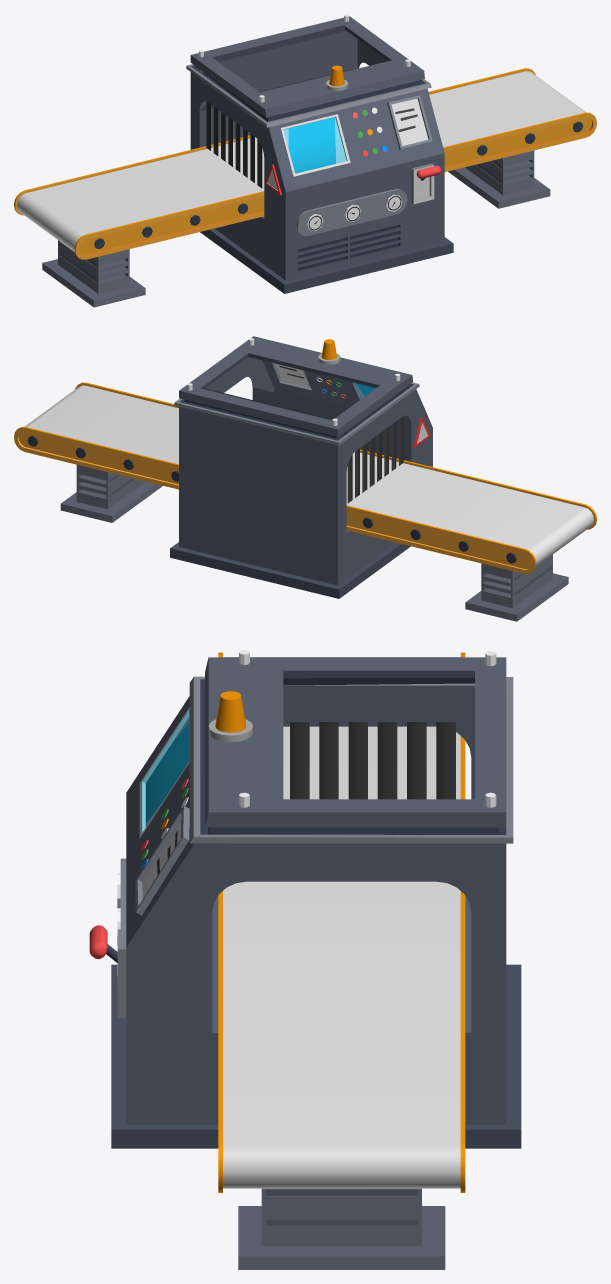
The model's file is Mach_6.fbx.
3 renders of one model, top to bottom at view 1: azimuth 30°, elevation 25°; view 2: azimuth 150°, elevation 25°; view 3: azimuth 270°, elevation 25°, orthographic. The views are drawn at different scales.
Visible parts, largest first — view 1: Pc.006, PaletArrow.005, PaletSide.005, UnderPalet.005, Plane.006, Cylinder.005, AlertOrange.005; view 2: Pc.006, PaletArrow.005, PaletSide.005, UnderPalet.005, Plane.006, Cylinder.005, AlertOrange.005; view 3: Pc.006, PaletArrow.005, UnderPalet.005, Plane.006, PaletSide.005, AlertOrange.005.
Part boxes in pixels (<box>): Pc.006: <box>186,14,453,293</box>; PaletArrow.005: <box>17,71,586,252</box>; PaletSide.005: <box>14,68,596,259</box>; UnderPalet.005: <box>42,150,550,307</box>; Plane.006: <box>206,101,262,188</box>; Cylinder.005: <box>94,121,583,248</box>; AlertOrange.005: <box>326,65,347,90</box>; Pc.006: <box>170,336,432,598</box>; PaletArrow.005: <box>24,385,593,566</box>; PaletSide.005: <box>14,382,596,573</box>; UnderPalet.005: <box>60,465,568,621</box>; Plane.006: <box>347,416,403,503</box>; Cylinder.005: <box>27,436,516,563</box>; AlertOrange.005: <box>318,339,340,364</box>; Pc.006: <box>89,650,521,1148</box>; PaletArrow.005: <box>223,657,460,1188</box>; UnderPalet.005: <box>238,1188,445,1269</box>; Plane.006: <box>290,722,455,799</box>; PaletSide.005: <box>218,652,465,1192</box>; AlertOrange.005: <box>208,691,252,742</box>.
Bounding box in the file's own units: 811 × 274 × 291.
